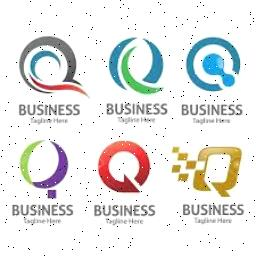q: (12, 29, 92, 101), (168, 138, 244, 202), (92, 134, 158, 200), (12, 136, 76, 202), (104, 30, 166, 96), (183, 36, 243, 96)
